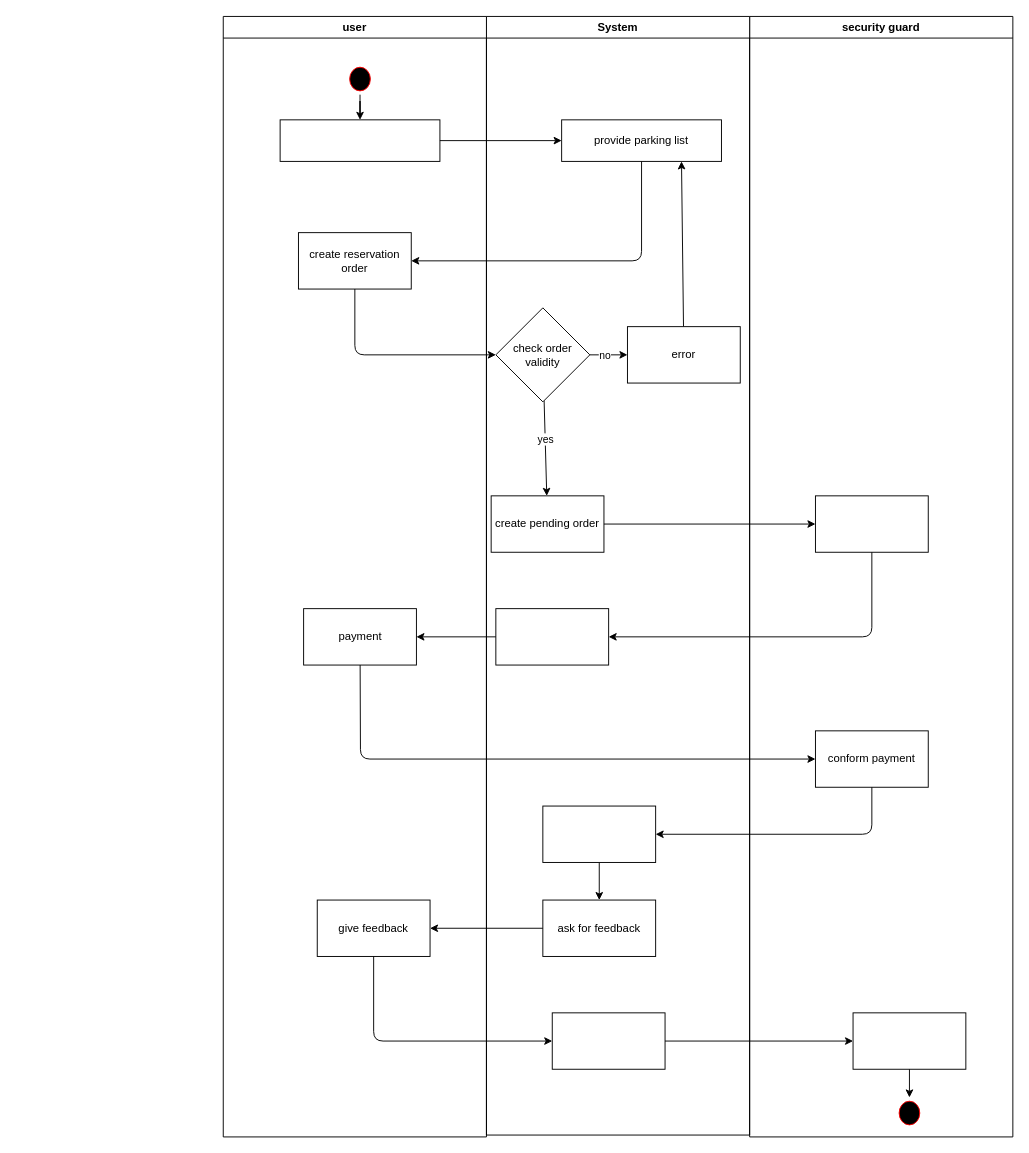
This 1029x1153 diagram has some shape labels left out. The centre of each missing label's shape, as x and y in pixels:
achive order: (x=599, y=833)
conform reservation order: (x=871, y=523)
request available parking list: (x=359, y=140)
save feedback: (x=608, y=1040)
update order status: (x=552, y=636)
view feedback: (x=909, y=1040)
